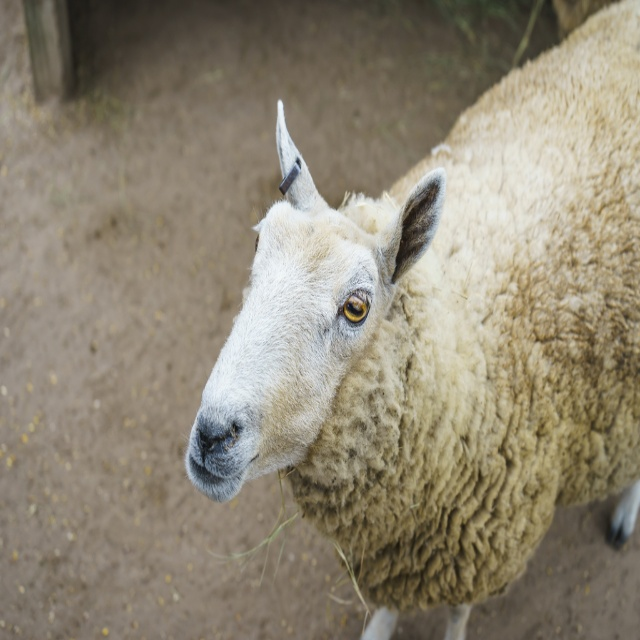Sheep: (178, 0, 640, 640)
